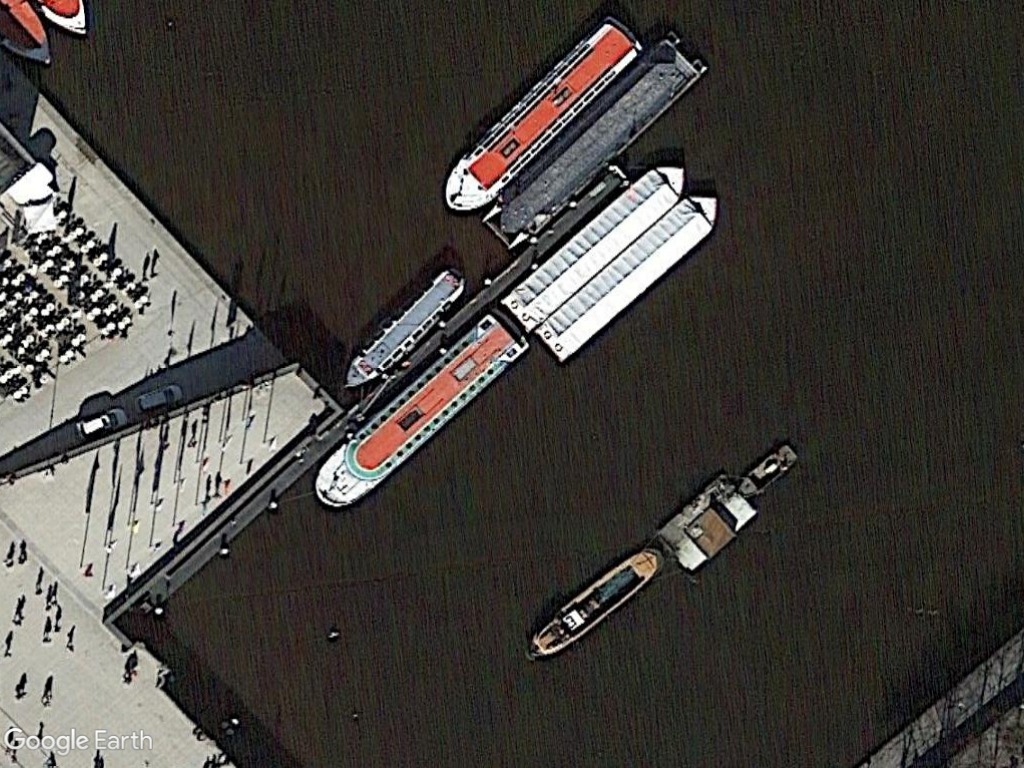boat: (309, 303, 530, 520), (436, 7, 652, 217), (521, 542, 668, 668), (335, 263, 470, 393)
car: (74, 404, 131, 442), (131, 380, 187, 418)
